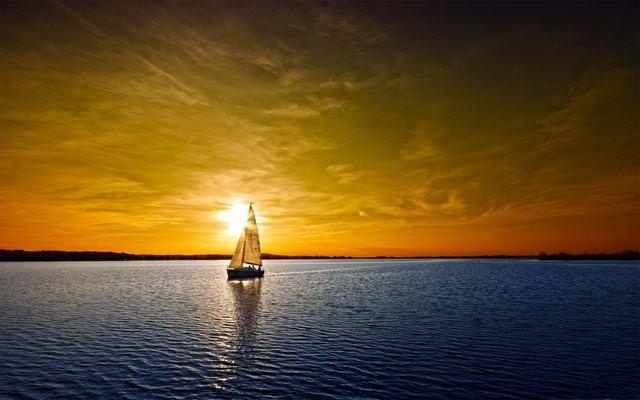fanchuan: (226, 202, 270, 283)
